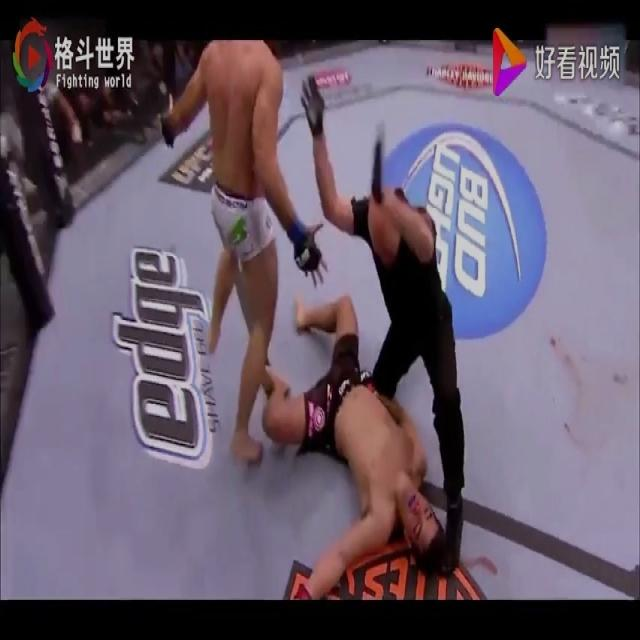fight: (156, 39, 448, 598)
non-fight: (298, 64, 467, 568)
